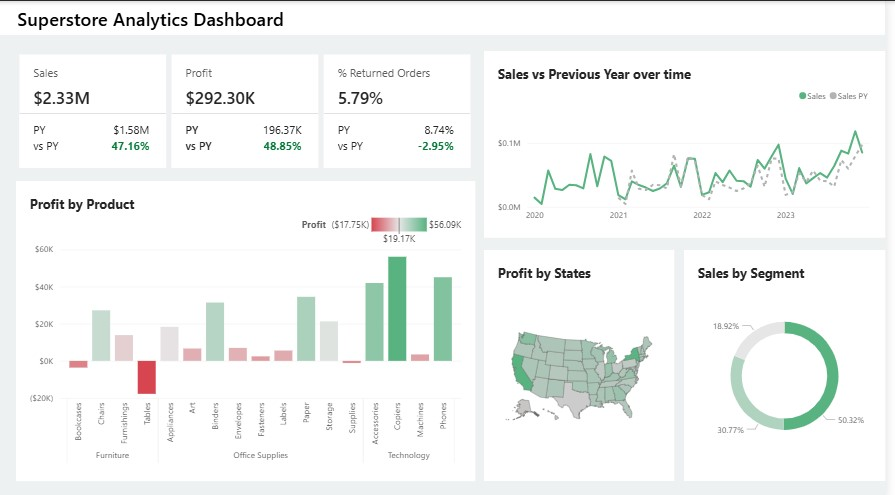

What the dashboard file says about the page in this screenshot:
{"tool":"powerbi","page":{"name":"Page 1","canvas":[1280,720],"ordinal":0},"visuals":[{"type":"cardVisual","fields":{"Data":["Key Measures.Sales","Key Measures.Profit","Key Measures.% Returned Orders"]},"box":[23.1,72.3,663.6,174.9],"z":0},{"type":"shape","box":[0,0,1279.5,49.2],"z":1000},{"type":"lineChart","title":"Sales vs Previous Year over time","fields":{"Y":["Key Measures.Sales","Key Measures.Sales PY"],"Category":["Date Table.Start of month"]},"box":[699.8,72.3,579.8,270.4],"z":2000},{"type":"columnChart","title":"Profit by Product","fields":{"Category":["Orders.Category","Orders.Sub-Category"],"Y":["Key Measures.Profit"]},"box":[23.1,260.2,663.6,433.7],"z":3000},{"type":"shapeMap","title":"Profit by States","fields":{"Value":["Key Measures.Profit"],"Category":["Orders.State/Province"]},"box":[699.8,360,274.7,334],"z":4000},{"type":"donutChart","title":"Sales by Segment","fields":{"Y":["Key Measures.Sales"],"Category":["Orders.Segment"]},"box":[988.9,360,290.6,334],"z":4001}]}

Visuals, with their boxes in screenshot pixels (x1, y1, x2, y2), scaled from the page's 1280x720 canvas onto the 895x495 screenshot:
cardVisual - Key Measures.Sales x Key Measures.Profit: (16, 50, 480, 170)
shape: (0, 0, 894, 34)
"Sales vs Previous Year over time" lineChart: (489, 50, 894, 236)
"Profit by Product" columnChart: (16, 179, 480, 477)
"Profit by States" shapeMap: (489, 248, 681, 477)
"Sales by Segment" donutChart: (691, 248, 894, 477)
